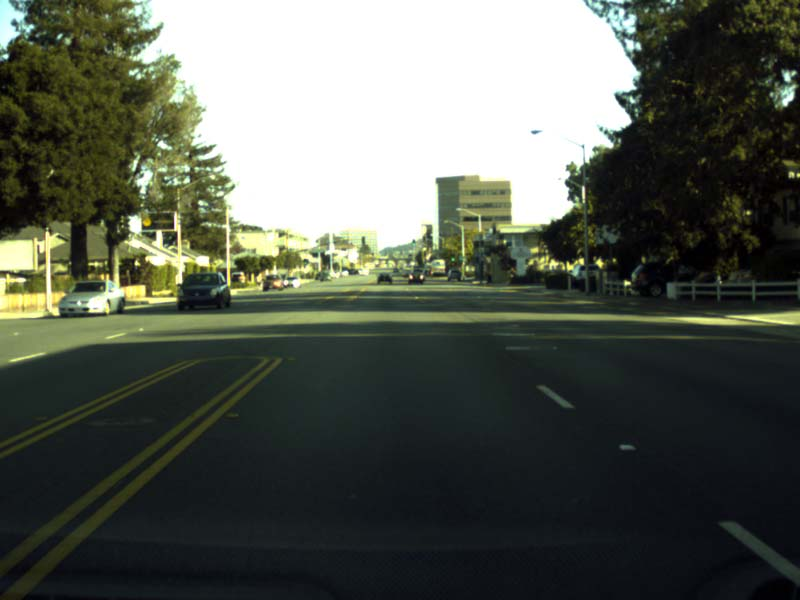Green: (450, 254, 455, 261), (411, 239, 415, 245)
